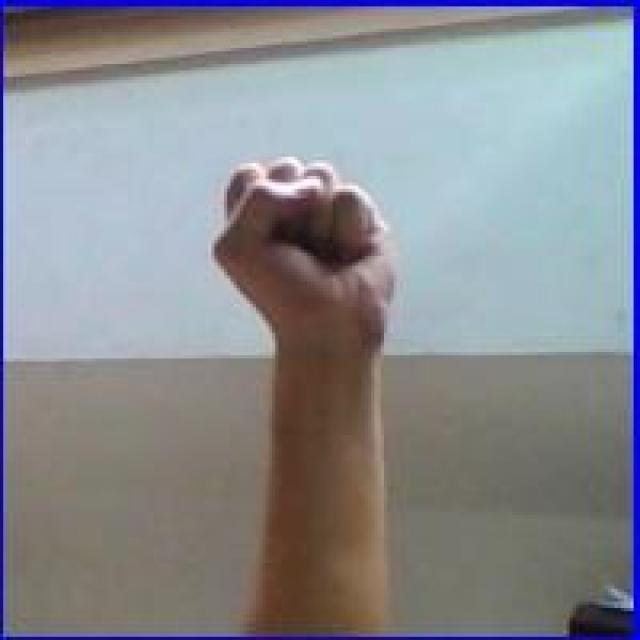S: (206, 152, 405, 373)
